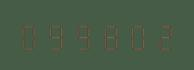eight: (96, 20, 121, 50)
nine: (43, 20, 68, 50), (70, 20, 95, 50)
two: (148, 20, 173, 50)
zero: (17, 20, 42, 50), (122, 20, 147, 50)
